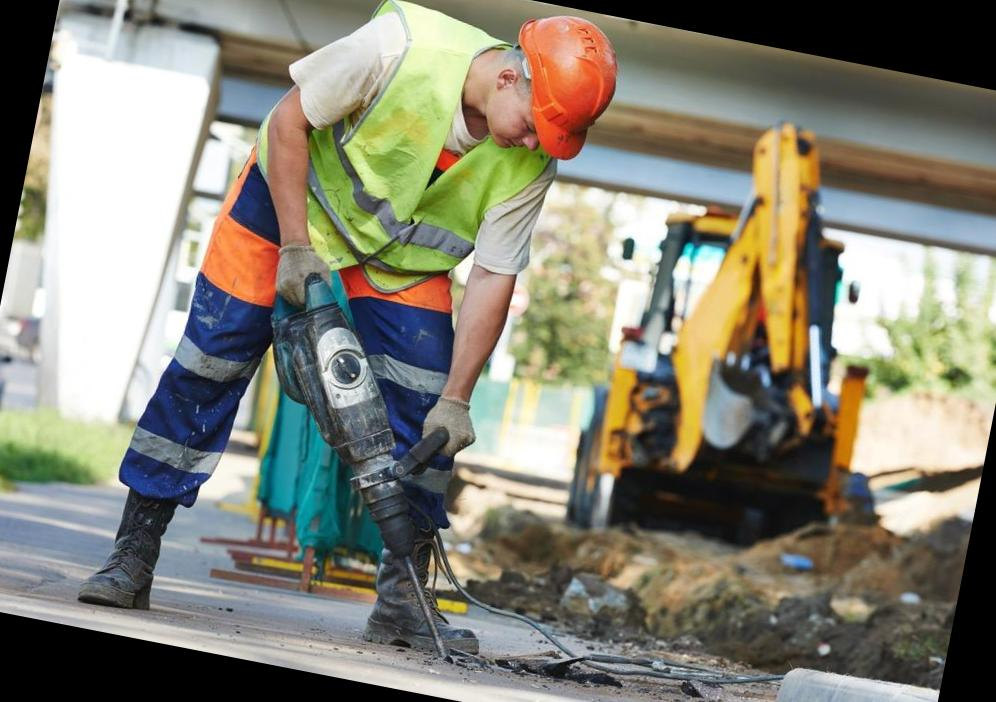Vest: (308, 24, 564, 362)
